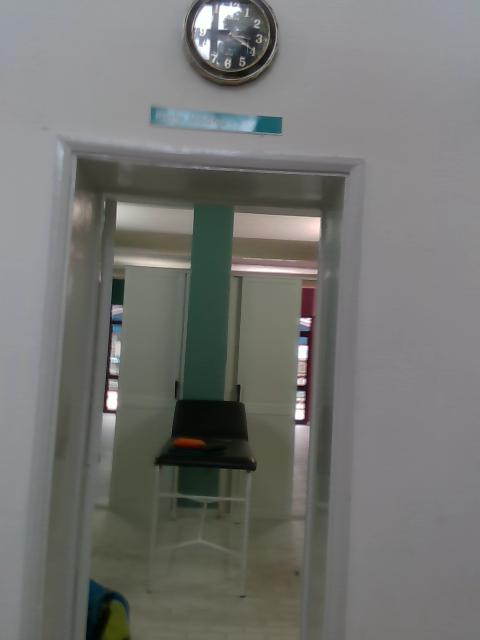open_door: (26, 135, 367, 638)
